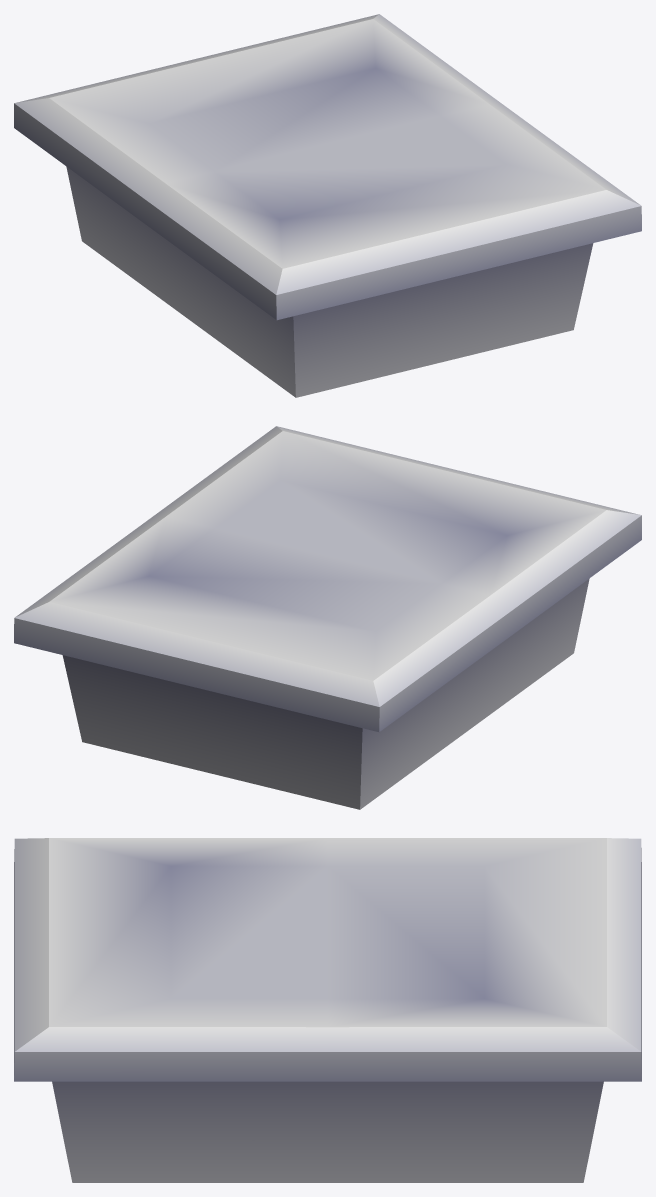
Rendered from FloatingSquarePlatform.gltf.
3 renders of one model, top to bottom at view 1: azimuth 30°, elevation 25°; view 2: azimuth 150°, elevation 25°; view 3: azimuth 270°, elevation 25°, orthographic. The views are drawn at different scales.
Visible parts, largest first — view 1: FloatingSquarePlatformMesh; view 2: FloatingSquarePlatformMesh; view 3: FloatingSquarePlatformMesh.
Boxes of the visible parts, <box> form: FloatingSquarePlatformMesh: <box>14,14,641,397</box>; FloatingSquarePlatformMesh: <box>14,426,641,809</box>; FloatingSquarePlatformMesh: <box>14,838,641,1182</box>.
Size of the model in its own units: 8.02 by 2.97 by 9.98.
